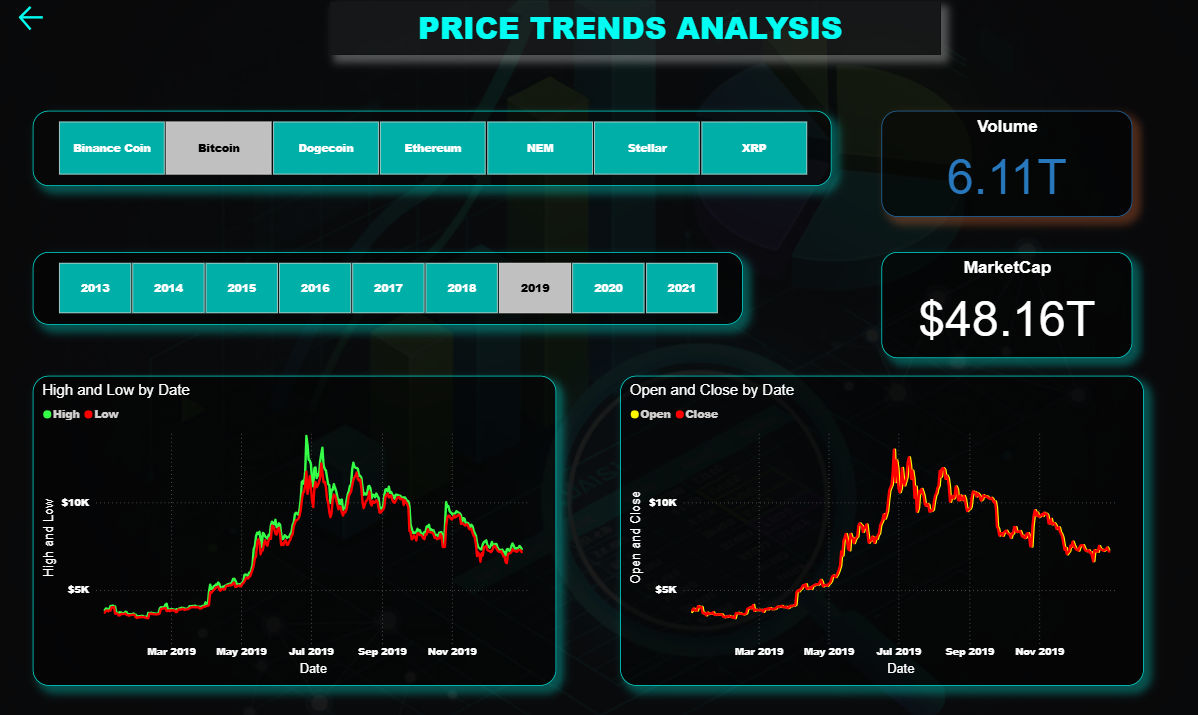

This screenshot's page, from the dashboard's own definition file:
{"tool":"powerbi","page":{"name":"Page 2","canvas":[1500,900],"ordinal":1},"visuals":[{"type":"slicer","fields":{"Values":["CryptoData_CSV.Name"]},"box":[41.8,141.5,993.8,93.3],"z":0},{"type":"slicer","fields":{"Values":["CryptoData_CSV.Year"]},"box":[41.8,316.8,882.8,90.1],"z":1000},{"type":"lineChart","fields":{"Y":["Sum(CryptoData_CSV.High)","Sum(CryptoData_CSV.Low)"],"Category":["CryptoData_CSV.Date"]},"box":[41.8,471.2,651.3,385.9],"z":2000},{"type":"actionButton","box":[20.9,6.4,41.8,40.2],"z":3000},{"type":"textbox","box":[412.1,6.2,758.8,65.3],"z":4000},{"type":"card","title":"MarketCap","fields":{"Values":["Sum(CryptoData_CSV.Marketcap)"]},"box":[1098.3,316.8,312,131.9],"z":5000},{"type":"card","title":"Volume","fields":{"Values":["Sum(CryptoData_CSV.Volume)"]},"box":[1098.3,141.5,312,131.9],"z":6000},{"type":"lineChart","fields":{"Category":["CryptoData_CSV.Date"],"Y":["Sum(CryptoData_CSV.Open)","Sum(CryptoData_CSV.Close)"]},"box":[773.5,471.2,651.3,385.9],"z":7000}]}

Visuals, with their boxes in screenshot pixels (x1, y1, x2, y2), scaled from the page's 1500x900 canvas onto the 1198x715 screenshot:
slicer - CryptoData_CSV.Name: [left=33, top=112, right=827, bottom=187]
slicer - CryptoData_CSV.Year: [left=33, top=252, right=738, bottom=323]
lineChart - Sum(CryptoData_CSV.High) x Sum(CryptoData_CSV.Low): [left=33, top=374, right=554, bottom=681]
actionButton: [left=17, top=5, right=50, bottom=37]
textbox: [left=329, top=5, right=935, bottom=57]
"MarketCap" card: [left=877, top=252, right=1126, bottom=356]
"Volume" card: [left=877, top=112, right=1126, bottom=217]
lineChart - CryptoData_CSV.Date x Sum(CryptoData_CSV.Open): [left=618, top=374, right=1138, bottom=681]
